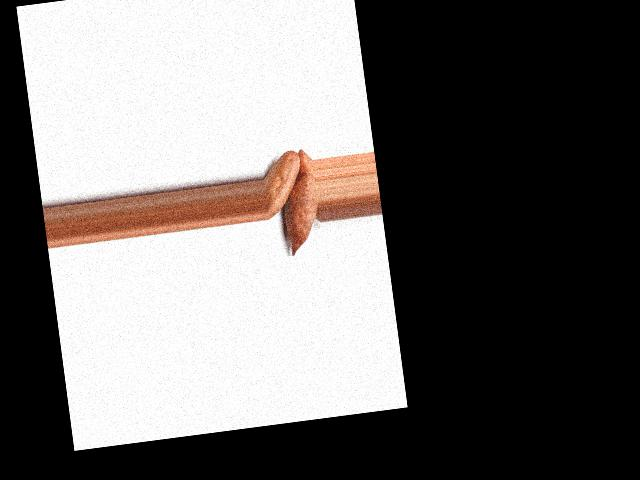sweet_potato: (260, 149, 306, 223)
